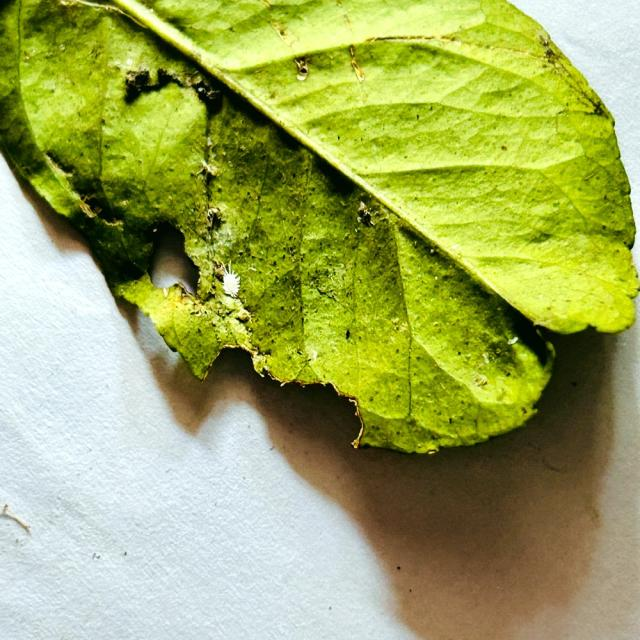Deficiency Leaf: (123, 64, 223, 109), (147, 221, 199, 295), (312, 156, 359, 200), (73, 191, 125, 230), (212, 257, 242, 297), (197, 161, 219, 183), (205, 206, 223, 232), (293, 55, 310, 81)
Lemon: (0, 0, 639, 451)
